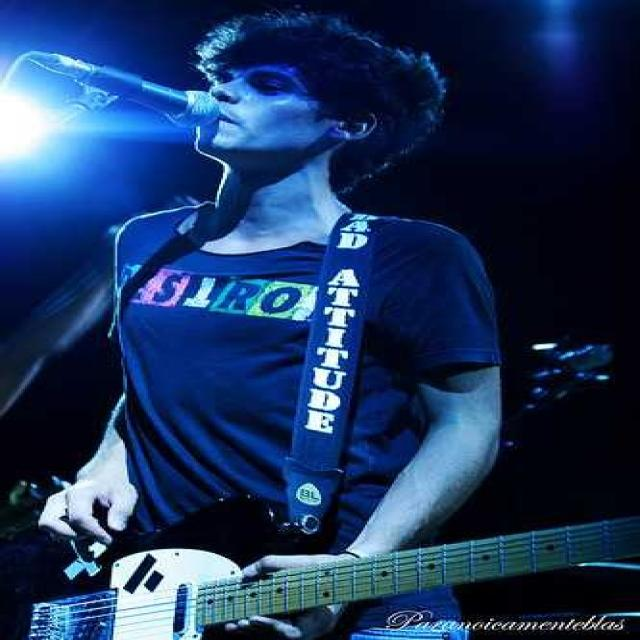microphone: (11, 49, 220, 133), (55, 485, 126, 575)
